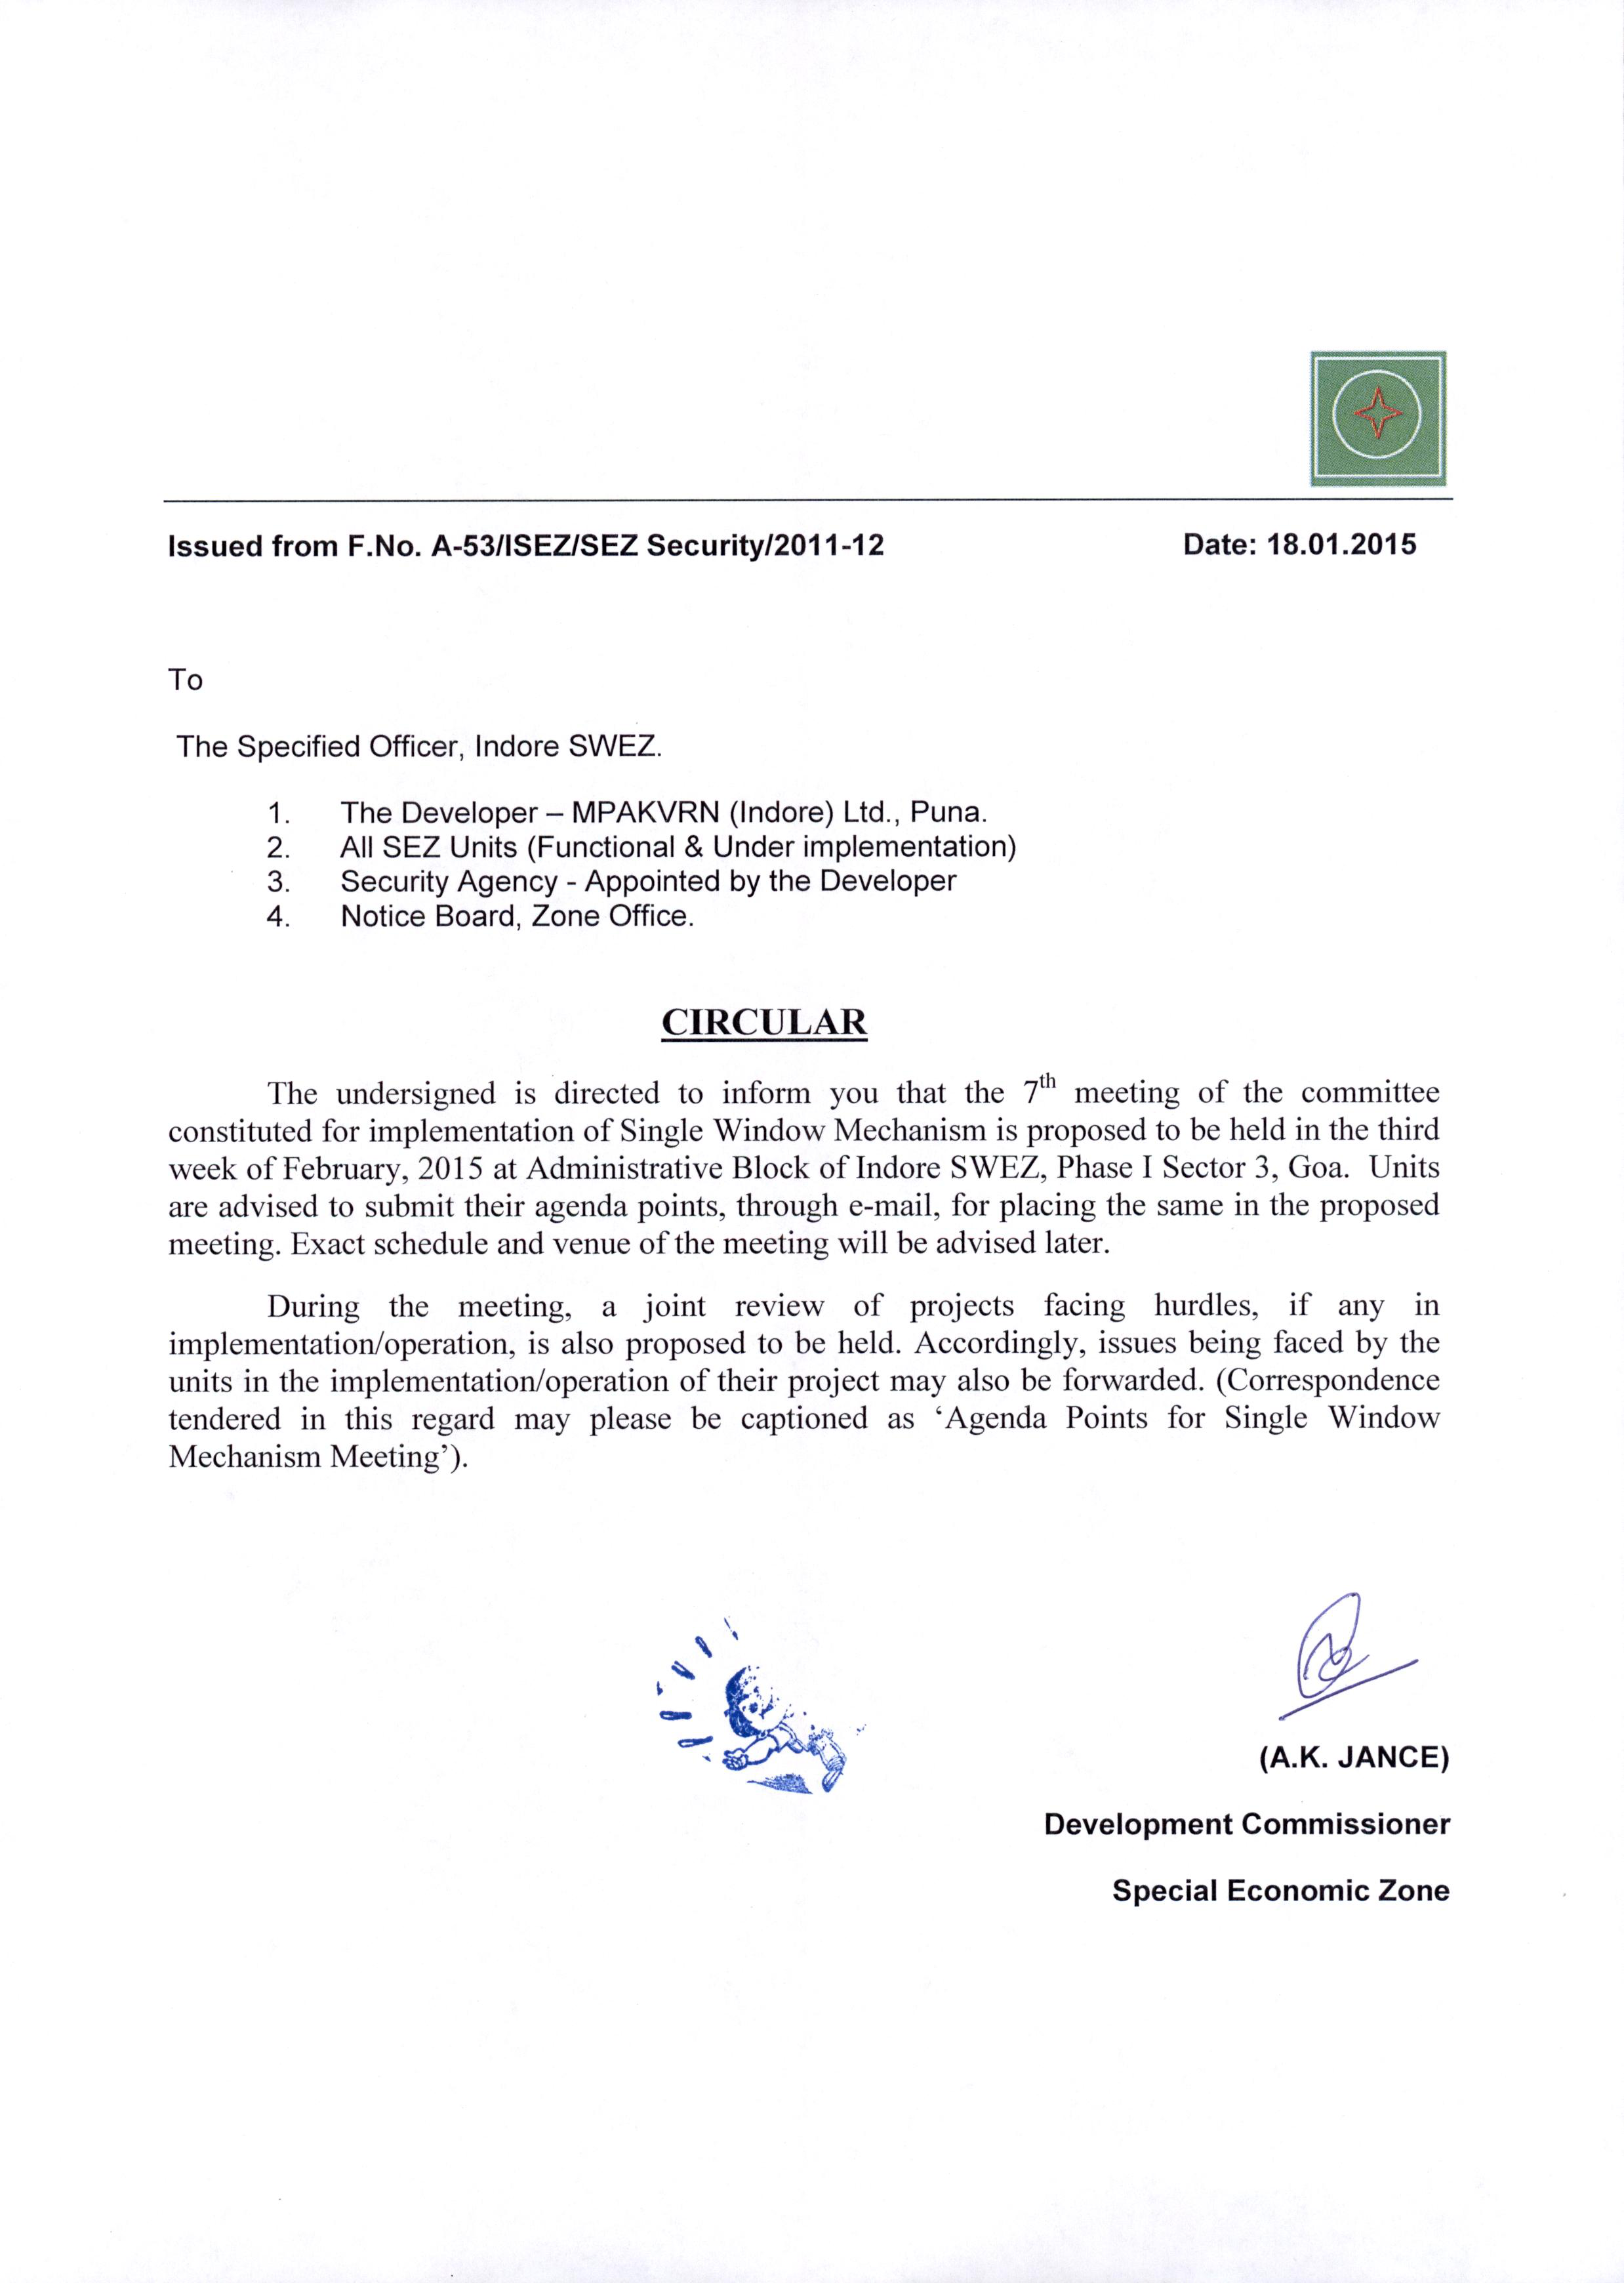Signature: (1267, 1582, 1427, 1722)
